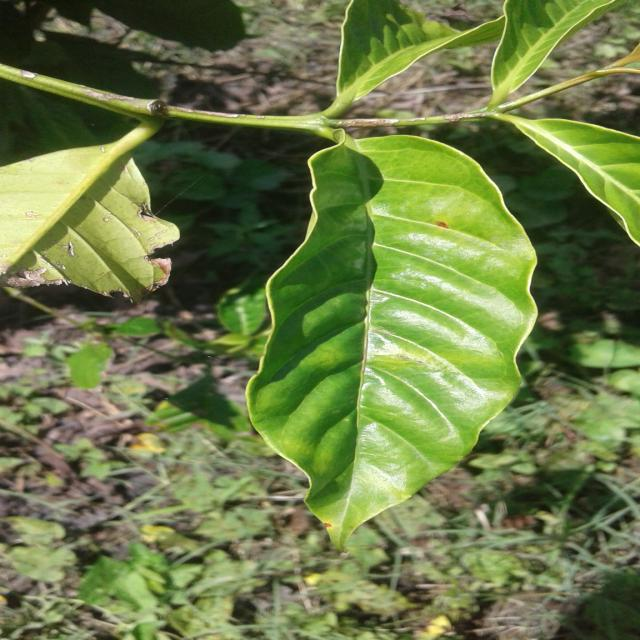Enfermedad-Roya: (246, 136, 538, 550)
